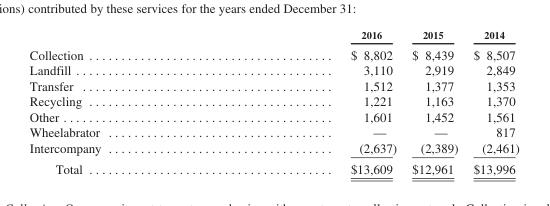table: (28, 28, 518, 175)
table column: (28, 28, 225, 175), (225, 28, 403, 175), (403, 28, 465, 175), (465, 28, 518, 175)
table column header: (28, 28, 518, 43)
table row: (28, 43, 518, 62), (28, 139, 518, 157), (28, 157, 518, 175), (28, 77, 518, 93), (28, 108, 518, 124), (28, 28, 518, 43), (28, 62, 518, 77), (28, 93, 518, 108), (28, 124, 518, 139)
